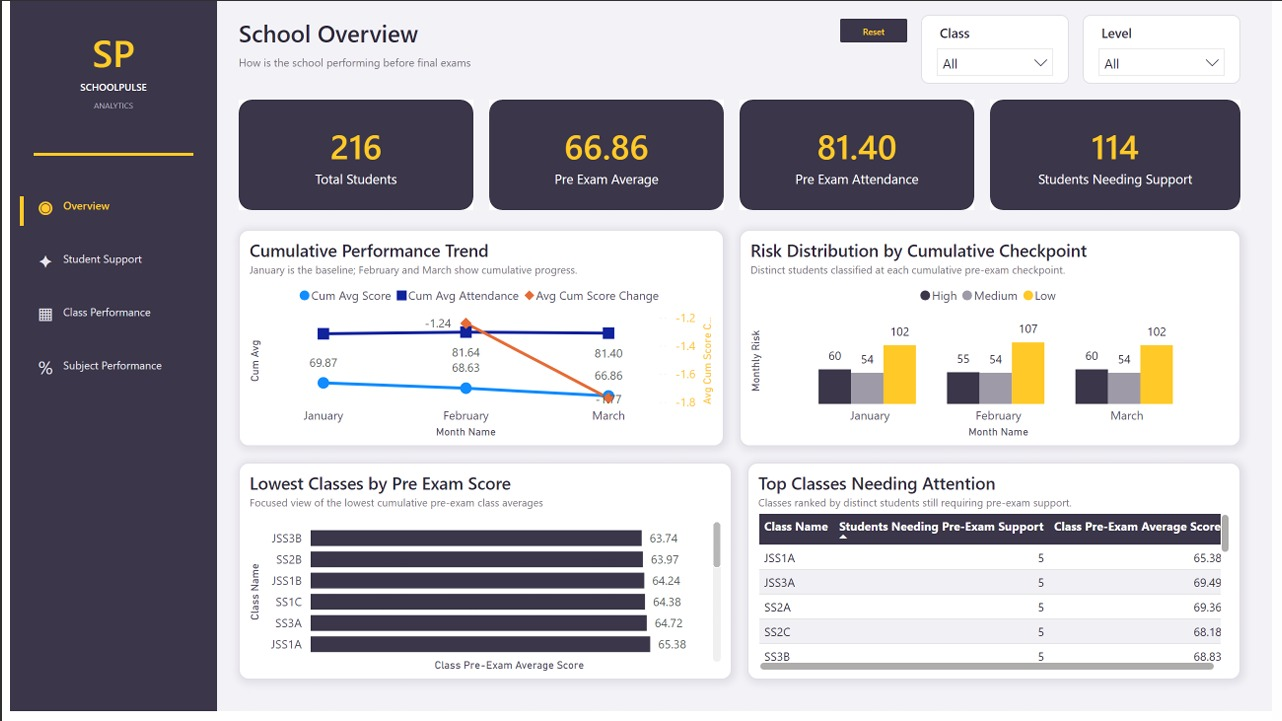

Layout of this report page (visuals, bound fields, positions):
{"tool":"powerbi","page":{"name":"School Overview","canvas":[1280,720],"ordinal":0},"visuals":[{"type":"shape","box":[0,0,210,720],"z":0},{"type":"textbox","box":[28,26,154,108],"z":1000},{"type":"shape","box":[24,154,162,3],"z":2000},{"type":"shape","box":[10,198,4,30],"z":3000},{"type":"textbox","box":[22,251,28,30],"z":4000},{"type":"textbox","box":[22,305,28,30],"z":5000},{"type":"textbox","box":[22,359,28,30],"z":6000},{"type":"textbox","box":[22,197,28,30],"z":8000},{"type":"textbox","box":[54,197,142,30],"z":10000},{"type":"textbox","box":[54,359,142,30],"z":11000},{"type":"textbox","box":[54,251,142,30],"z":12000},{"type":"textbox","box":[54,305,142,30],"z":13000},{"type":"actionButton","box":[14,190,182,46],"z":14000},{"type":"actionButton","box":[14,244,182,46],"z":15000},{"type":"actionButton","box":[14,298,182,46],"z":16000},{"type":"actionButton","box":[14,352,182,46],"z":17000},{"type":"textbox","box":[232,16,560,34],"z":19000},{"type":"textbox","box":[232,52,650,30],"z":20000},{"type":"slicer","fields":{"Values":["Student Overview.Class Name"]},"box":[924,14,150,70],"z":21000},{"type":"slicer","fields":{"Values":["Student Overview.Level Name"]},"box":[1088,14,160,70],"z":22000},{"type":"shape","box":[232,100,238,112],"z":23000},{"type":"cardVisual","fields":{"Data":["Student Overview.Pre-Exam Total Students"]},"box":[232,100,238,112],"z":24000},{"type":"shape","box":[486,100,238,112],"z":25000},{"type":"cardVisual","fields":{"Data":["Student Overview.Pre-Exam Average Score"]},"box":[486,100,238,112],"z":26000},{"type":"shape","box":[740,100,238,112],"z":27000},{"type":"cardVisual","fields":{"Data":["Student Overview.Pre-Exam Average Attendance"]},"box":[740,100,238,112],"z":28000},{"type":"shape","box":[994,100,254,112],"z":29000},{"type":"cardVisual","fields":{"Data":["Student Overview.Students Needing Pre-Exam Support"]},"box":[994,100,254,112],"z":30000},{"type":"lineChart","title":"Cumulative Performance Trend","fields":{"Category":["Pre-Exam Student Trend.Month Name"],"Y":["Student Overview.Cumulative Average Score","Student Overview.Cumulative Average Attendance"],"Y2":["Student Overview.Average Cumulative Score Change"]},"box":[232.2,232.2,492,219.5],"z":31000},{"type":"clusteredColumnChart","title":"Risk Distribution by Cumulative Checkpoint","fields":{"Category":["Pre-Exam Student Trend.Month Name"],"Y":["Student Overview.Monthly High Risk Students","Student Overview.Monthly Medium Risk Students","Student Overview.Monthly Low Risk Students"]},"box":[740.2,232.2,508,219.5],"z":32000},{"type":"clusteredBarChart","title":"Lowest Classes by Pre Exam Score","fields":{"Category":["Student Overview.Class Name"],"Y":["Student Overview.Class Pre-Exam Average Score"]},"box":[232,468,500,220],"z":33000},{"type":"tableEx","title":"Top Classes Needing Attention","fields":{"Values":["Student Overview.Class Name","Student Overview.Students Needing Pre-Exam Support","Student Overview.Class Pre-Exam Average Score"]},"box":[748,468,500,220],"z":34000},{"type":"shape","box":[842,18,68,24],"z":62000},{"type":"textbox","box":[842,20,68,20],"z":62001},{"type":"actionButton","box":[842,18,68,24],"z":62002}]}

Visuals, with their boxes on the page's 1280x720 design canvas (x1, y1, x2, y2). These are canvas units, not pixel positions in the 1282x721 screenshot, which may show the page scaled, cropped or inside an application window:
shape: [0, 0, 210, 720]
textbox: [28, 26, 182, 134]
shape: [24, 154, 186, 157]
shape: [10, 198, 14, 228]
textbox: [22, 251, 50, 281]
textbox: [22, 305, 50, 335]
textbox: [22, 359, 50, 389]
textbox: [22, 197, 50, 227]
textbox: [54, 197, 196, 227]
textbox: [54, 359, 196, 389]
textbox: [54, 251, 196, 281]
textbox: [54, 305, 196, 335]
actionButton: [14, 190, 196, 236]
actionButton: [14, 244, 196, 290]
actionButton: [14, 298, 196, 344]
actionButton: [14, 352, 196, 398]
textbox: [232, 16, 792, 50]
textbox: [232, 52, 882, 82]
slicer - Student Overview.Class Name: [924, 14, 1074, 84]
slicer - Student Overview.Level Name: [1088, 14, 1248, 84]
shape: [232, 100, 470, 212]
cardVisual - Student Overview.Pre-Exam Total Students: [232, 100, 470, 212]
shape: [486, 100, 724, 212]
cardVisual - Student Overview.Pre-Exam Average Score: [486, 100, 724, 212]
shape: [740, 100, 978, 212]
cardVisual - Student Overview.Pre-Exam Average Attendance: [740, 100, 978, 212]
shape: [994, 100, 1248, 212]
cardVisual - Student Overview.Students Needing Pre-Exam Support: [994, 100, 1248, 212]
"Cumulative Performance Trend" lineChart: [232, 232, 724, 452]
"Risk Distribution by Cumulative Checkpoint" clusteredColumnChart: [740, 232, 1248, 452]
"Lowest Classes by Pre Exam Score" clusteredBarChart: [232, 468, 732, 688]
"Top Classes Needing Attention" tableEx: [748, 468, 1248, 688]
shape: [842, 18, 910, 42]
textbox: [842, 20, 910, 40]
actionButton: [842, 18, 910, 42]
